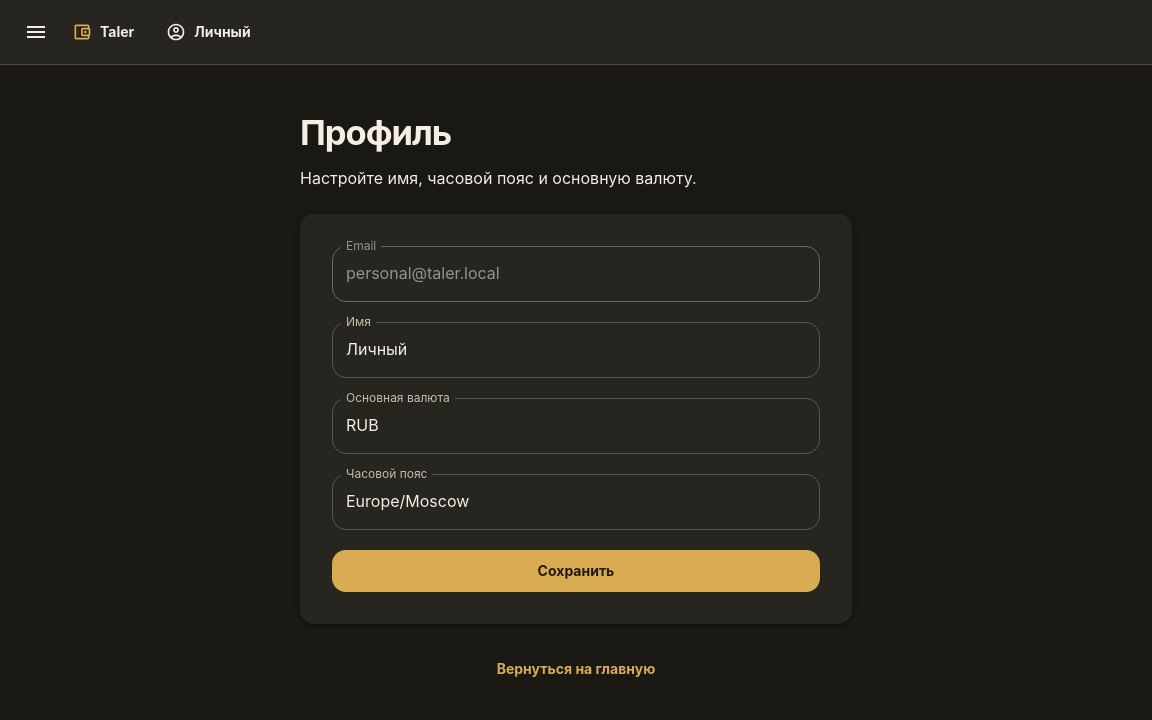
App › opens the user menu and logs out from a protected page
The width and height of the screenshot is (1152, 720).
Expected: the heading "Профиль" is shown, [300,112,451,153]
Click the button with aria-label "Меню пользователя: Личный" at (210, 32), box [154,11,267,53]
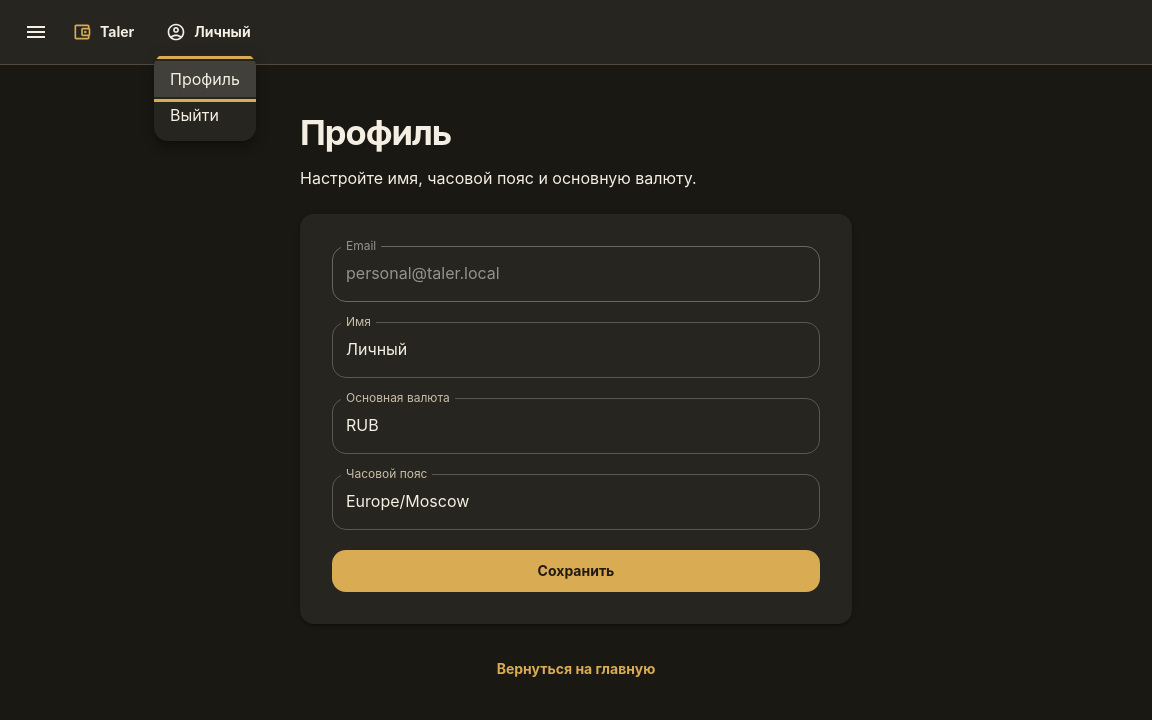
Click the menu item "Выйти" at (194, 115), box [170,105,219,125]
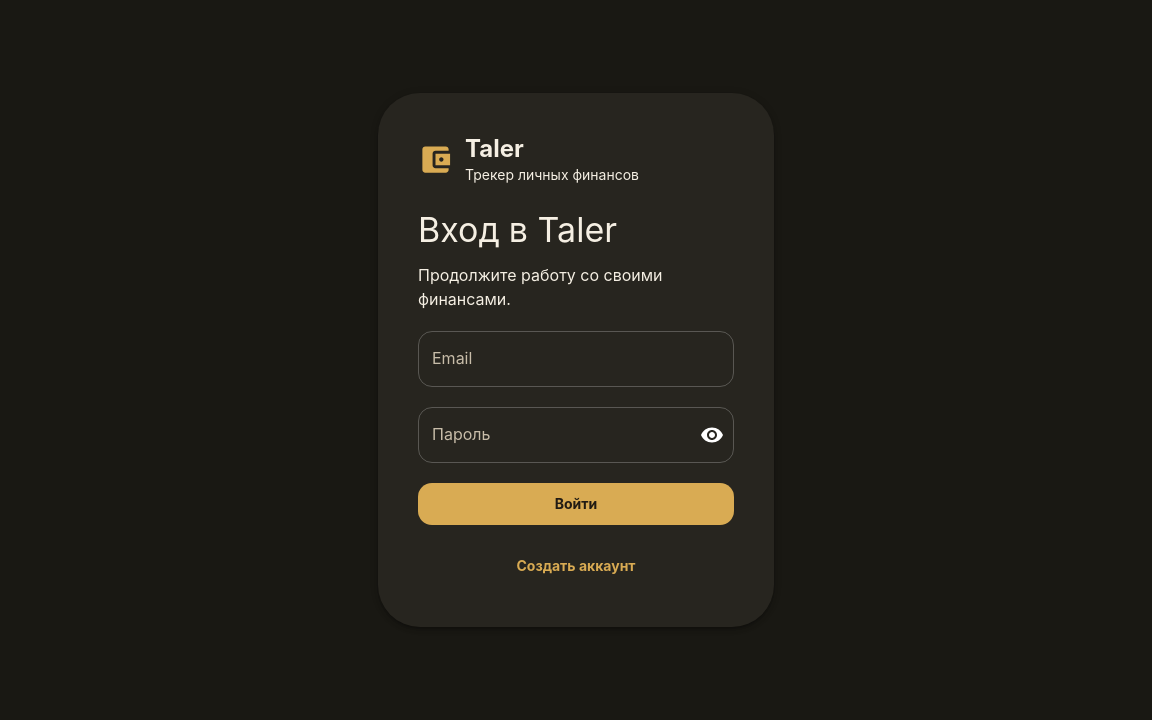
Expected: the heading "Вход в Taler" is shown, [418,209,617,250]
